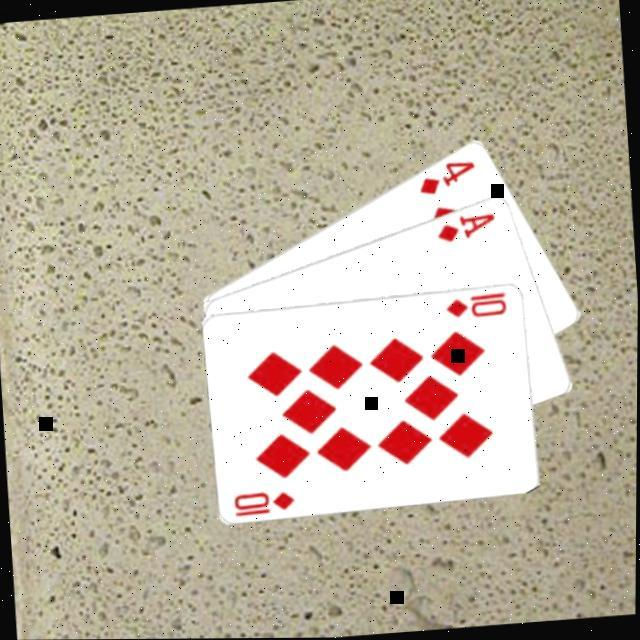10D: (442, 288, 509, 322), (230, 487, 298, 520)
4D: (414, 158, 478, 199)
AD: (432, 210, 498, 246)
